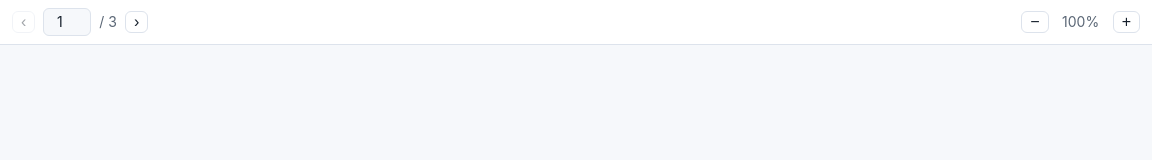
PdfViewer › goes back to the previous page when Prev is clicked
The image size is (1152, 160).
Expected: the number field named "Current page" is shown, [43, 8, 91, 36]
Click the button named "Next page" at (137,22), box [125, 11, 148, 33]
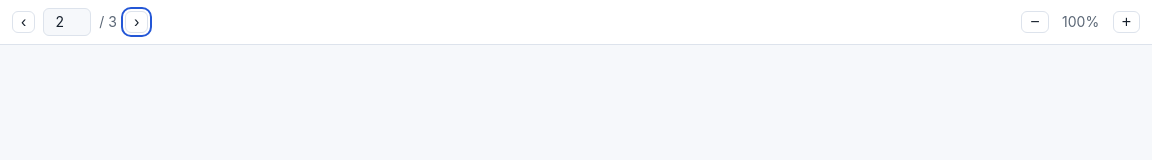
Expected: the number field named "Current page" holds "2", [43, 8, 91, 36]
Click the button named "Previous page" at (24,22), box [12, 11, 35, 33]
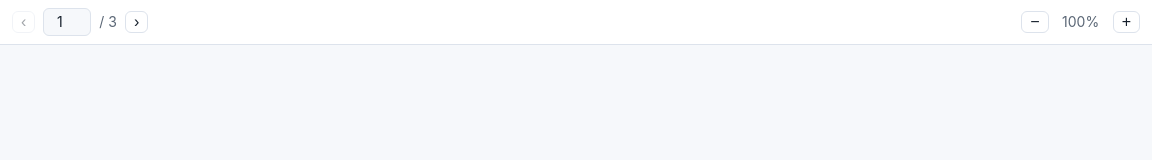
Expected: the number field named "Current page" holds "1", [43, 8, 91, 36]
